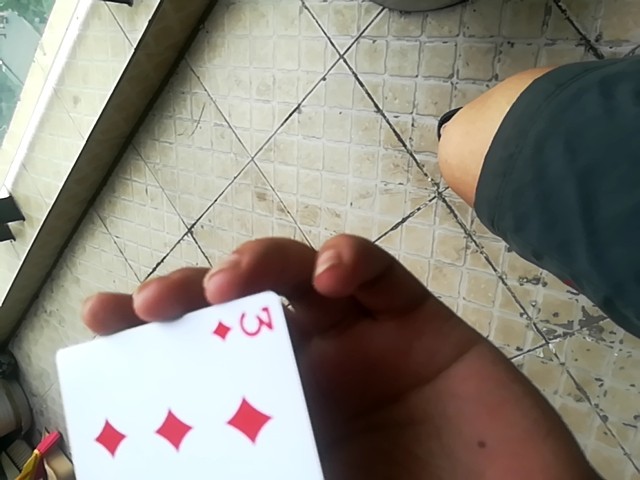fk 3: (49, 284, 329, 479)
